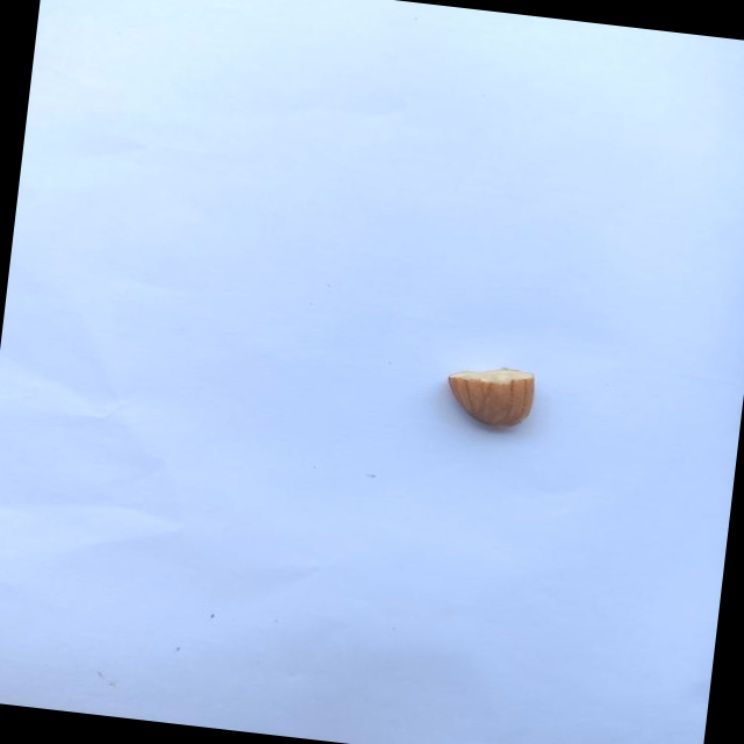grade4: (432, 356, 546, 440)
